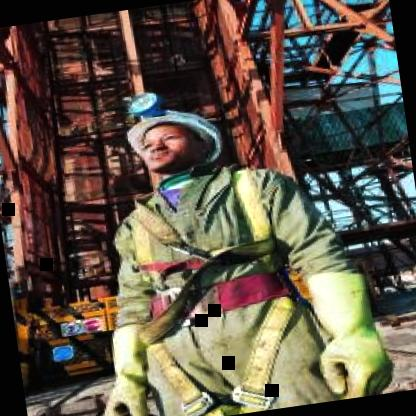helmet: (116, 94, 226, 183)
